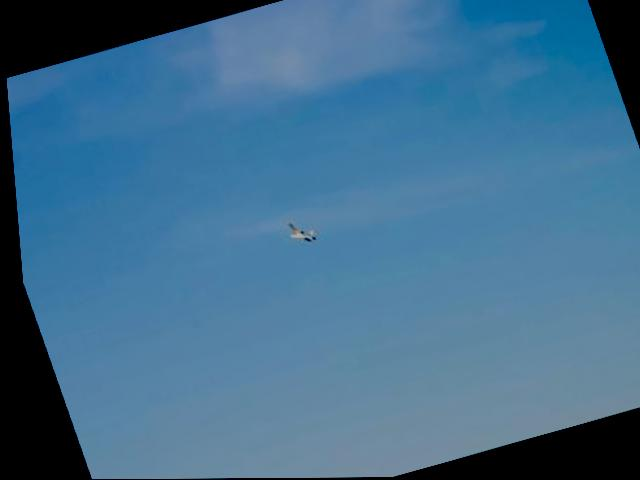uav: (278, 217, 318, 249)
